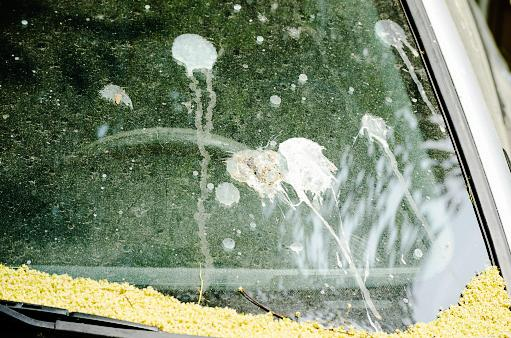Bird Poop: (226, 138, 382, 332), (172, 34, 217, 304), (355, 114, 435, 246), (375, 20, 444, 132), (100, 84, 132, 108), (216, 183, 239, 206), (289, 243, 303, 254), (222, 238, 234, 250), (288, 27, 300, 39), (270, 95, 280, 104), (298, 74, 307, 83), (414, 249, 422, 259), (260, 13, 268, 21), (256, 36, 263, 44), (234, 4, 240, 10)
